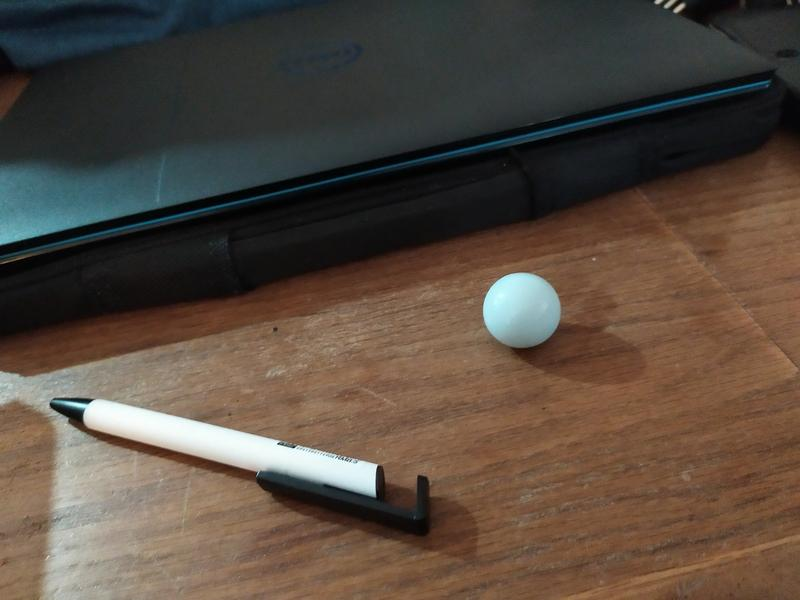Warning: (481, 270, 564, 351)
